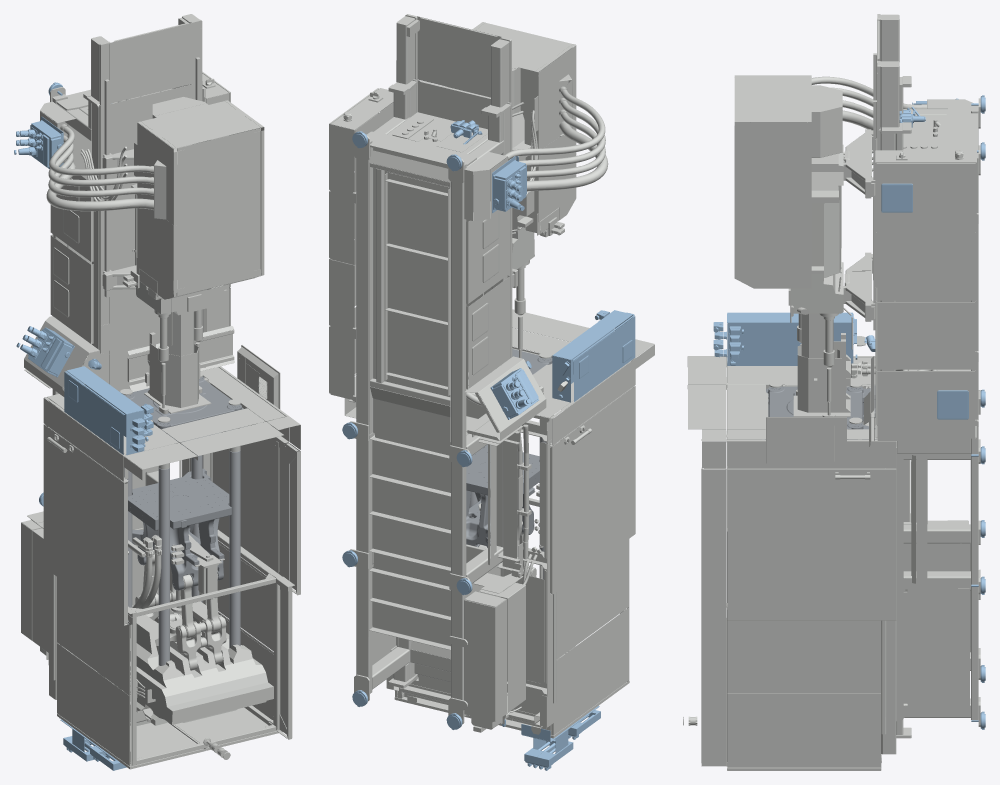
Rendered from imm-px-160.glb.
3 renders of one model, left to right at view 1: azimuth 30°, elevation 25°; view 2: azimuth 150°, elevation 25°; view 3: azimuth 270°, elevation 25°, orthographic. The views are drawn at different scales.
Visible parts, largest first — view 1: PX_0160-00750_M3_623036_ASM_mesh, PX_00750_M5_623036_ASM_mesh, PX_0160_M1_623036_ASM_mesh, PX_0160-00750_M7_623036_ASM_mesh, 20855758_AF0_ASM_mesh, 20853065_mesh, 20893137_mesh, PX_ZE88-53004_88-53032_623036_ASM_mesh, 20864808_mesh, PX_0160_M8_623036_ASM_mesh, 90516621_mesh, 20854205_mesh (+15 smaller); view 2: PX_0160_M1_623036_ASM_mesh, PX_0160-00750_M3_623036_ASM_mesh, PX_0160-00750_C2_623036_ASM_mesh, PX_0160-00750_M7_623036_ASM_mesh, 20855758_AF0_ASM_mesh, PX_00750_M5_623036_ASM_mesh, PX_0160_C6_623036_ASM_mesh, PX_ZE88-53004_88-53032_623036_ASM_mesh, 20893137_mesh, PX_0160_ZE02-508_623036_ASM_mesh, PX_0160_M2_623036_ASM_mesh, PX_SA200_623036_ASM_mesh (+6 smaller); view 3: PX_0160-00750_M3_623036_ASM_mesh, PX_0160_C6_623036_ASM_mesh, PX_0160_M1_623036_ASM_mesh, PX_00750_M5_623036_ASM_mesh, PX_0160-00750_M7_623036_ASM_mesh, PX_ZE88-53004_88-53032_623036_ASM_mesh, PX_0160_ZE89-2001_623036_ASM_mesh, 20854205_mesh, PX_00750_M6_623036_ASM_mesh, PX_0160_ZE02-508_623036_ASM_mesh, PX_0160_M8_623036_ASM_mesh, PX_0160_M2_623036_ASM_mesh.
Part boxes in pixels (x1,y1,x2,y2): PX_0160-00750_M3_623036_ASM_mesh: (43, 332, 300, 769); PX_00750_M5_623036_ASM_mesh: (122, 97, 264, 345); PX_0160_M1_623036_ASM_mesh: (21, 81, 205, 673); PX_0160-00750_M7_623036_ASM_mesh: (40, 14, 202, 413); 20855758_AF0_ASM_mesh: (43, 424, 127, 625); 20853065_mesh: (99, 601, 273, 725); 20893137_mesh: (128, 468, 231, 590); PX_ZE88-53004_88-53032_623036_ASM_mesh: (64, 366, 153, 455); 20864808_mesh: (229, 450, 240, 647); PX_0160_M8_623036_ASM_mesh: (127, 326, 234, 391); 90516621_mesh: (158, 467, 169, 665); 20854205_mesh: (124, 376, 247, 447); PX_0160_M1_623036_ASM_mesh: (344, 79, 546, 724); PX_0160-00750_M3_623036_ASM_mesh: (386, 309, 654, 738); PX_0160-00750_C2_623036_ASM_mesh: (385, 172, 499, 395); PX_0160-00750_M7_623036_ASM_mesh: (396, 14, 608, 360); 20855758_AF0_ASM_mesh: (550, 385, 635, 594); PX_00750_M5_623036_ASM_mesh: (445, 22, 576, 269); PX_0160_C6_623036_ASM_mesh: (329, 88, 393, 399); PX_ZE88-53004_88-53032_623036_ASM_mesh: (552, 310, 635, 402); 20893137_mesh: (466, 444, 539, 547); PX_0160_ZE02-508_623036_ASM_mesh: (342, 131, 472, 729); PX_0160_M2_623036_ASM_mesh: (466, 352, 552, 579); PX_SA200_623036_ASM_mesh: (521, 705, 599, 770); PX_0160-00750_M3_623036_ASM_mesh: (683, 333, 911, 770); PX_0160_C6_623036_ASM_mesh: (875, 150, 976, 438); PX_0160_M1_623036_ASM_mesh: (865, 76, 980, 738); PX_00750_M5_623036_ASM_mesh: (734, 75, 852, 349); PX_0160-00750_M7_623036_ASM_mesh: (796, 14, 973, 416); PX_ZE88-53004_88-53032_623036_ASM_mesh: (713, 312, 857, 365); PX_0160_ZE89-2001_623036_ASM_mesh: (881, 183, 968, 419); 20854205_mesh: (762, 385, 876, 439); PX_00750_M6_623036_ASM_mesh: (801, 313, 833, 357); PX_0160_ZE02-508_623036_ASM_mesh: (971, 95, 985, 729); PX_0160_M8_623036_ASM_mesh: (864, 356, 874, 446); PX_0160_M2_623036_ASM_mesh: (769, 361, 937, 424).
Bounding box in the file's own units: 1923 × 6417 × 2384.
